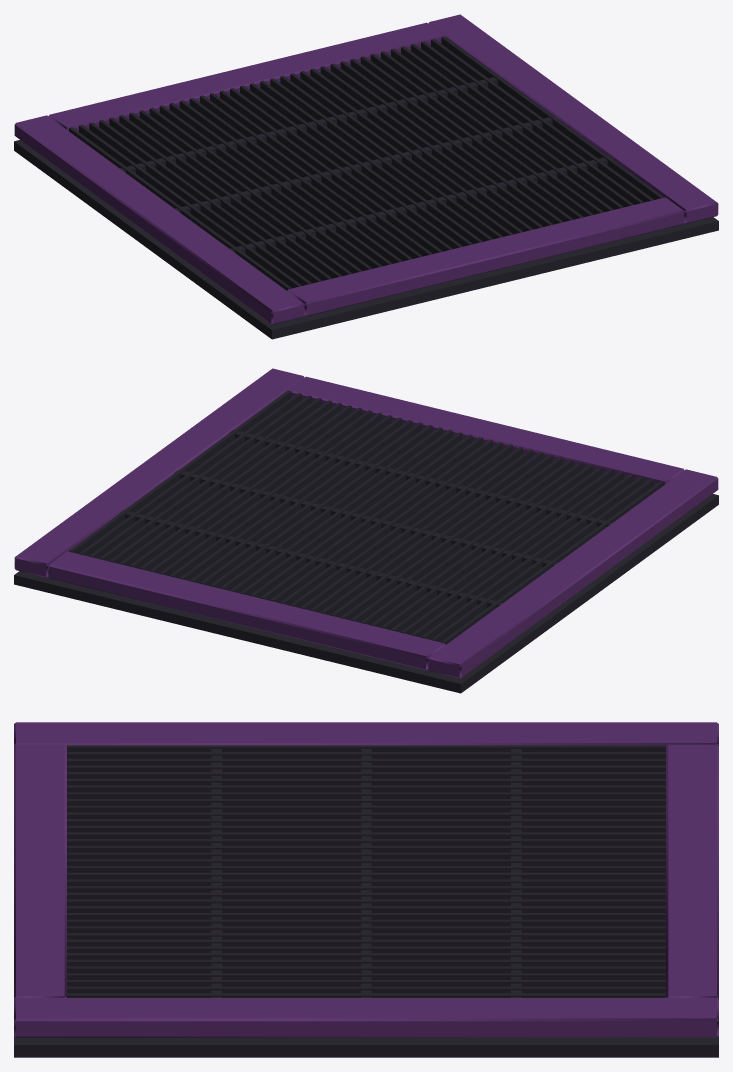
Rendered from SM_SB_Kit_KeelShell_FloorGrate.fbx.
The picture shows the model from 3 angles, top to bottom: view 1: azimuth 30°, elevation 25°; view 2: azimuth 150°, elevation 25°; view 3: azimuth 270°, elevation 25°; orthographic projection. The views are drawn at different scales.
Visible parts, largest first — view 1: SM_SB_Kit_KeelShell_FloorGrate; view 2: SM_SB_Kit_KeelShell_FloorGrate; view 3: SM_SB_Kit_KeelShell_FloorGrate.
Boxes of the visible parts, <box> form: SM_SB_Kit_KeelShell_FloorGrate: <box>14,14,718,339</box>; SM_SB_Kit_KeelShell_FloorGrate: <box>14,368,718,693</box>; SM_SB_Kit_KeelShell_FloorGrate: <box>14,722,718,1057</box>.
Size of the model in its own units: 400 by 400 by 24.
